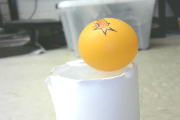PingPongBall: (78, 18, 137, 72)
